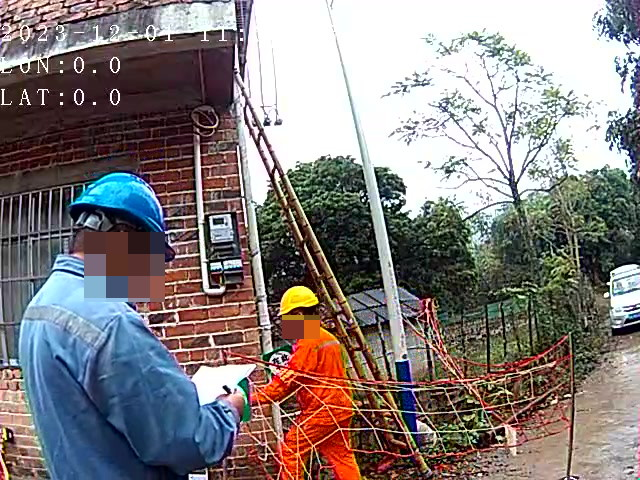halt: (62, 174, 170, 282), (276, 285, 322, 330)
hand: (223, 390, 243, 419)
inear: (292, 312, 306, 331)
outear: (106, 216, 147, 280)
person: (17, 170, 247, 480), (248, 282, 359, 480)
upsuit: (17, 251, 215, 480)
worksign: (262, 343, 294, 381)
ydownsuit: (281, 422, 355, 480)
yupsuit: (252, 319, 359, 414)
